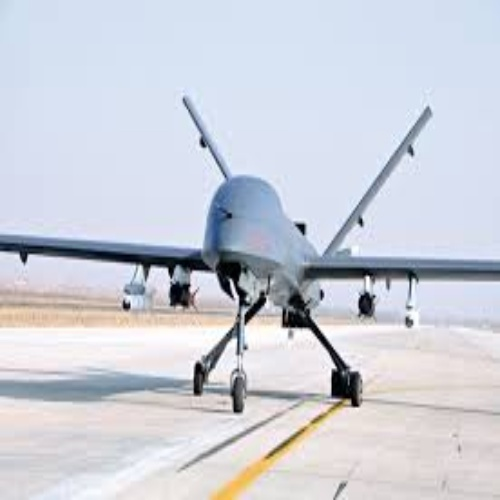uav: (6, 97, 498, 414)
